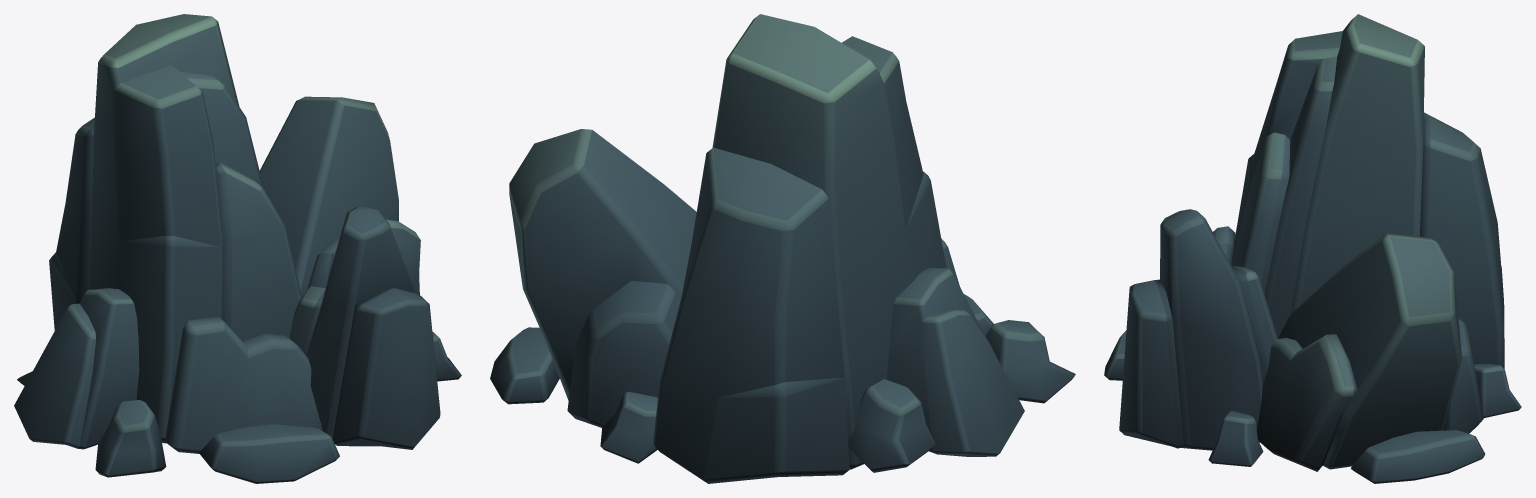
Rendered from rock_arrangement_medium_1.fbx.
The picture shows the model from 3 angles, left to right: view 1: azimuth 30°, elevation 25°; view 2: azimuth 150°, elevation 25°; view 3: azimuth 270°, elevation 25°; orthographic projection. The views are drawn at different scales.
Parts seen in each view (by area): view 1: rock_arrangement_medium_1; view 2: rock_arrangement_medium_1; view 3: rock_arrangement_medium_1.
Part boxes in pixels (x1,y1,x2,y2): rock_arrangement_medium_1: [14, 14, 461, 483]; rock_arrangement_medium_1: [490, 14, 1075, 483]; rock_arrangement_medium_1: [1104, 14, 1521, 483].
Bounding box in the file's own units: 532 × 473 × 475.
